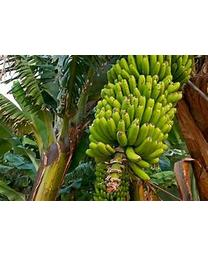banana: (85, 55, 182, 196)
